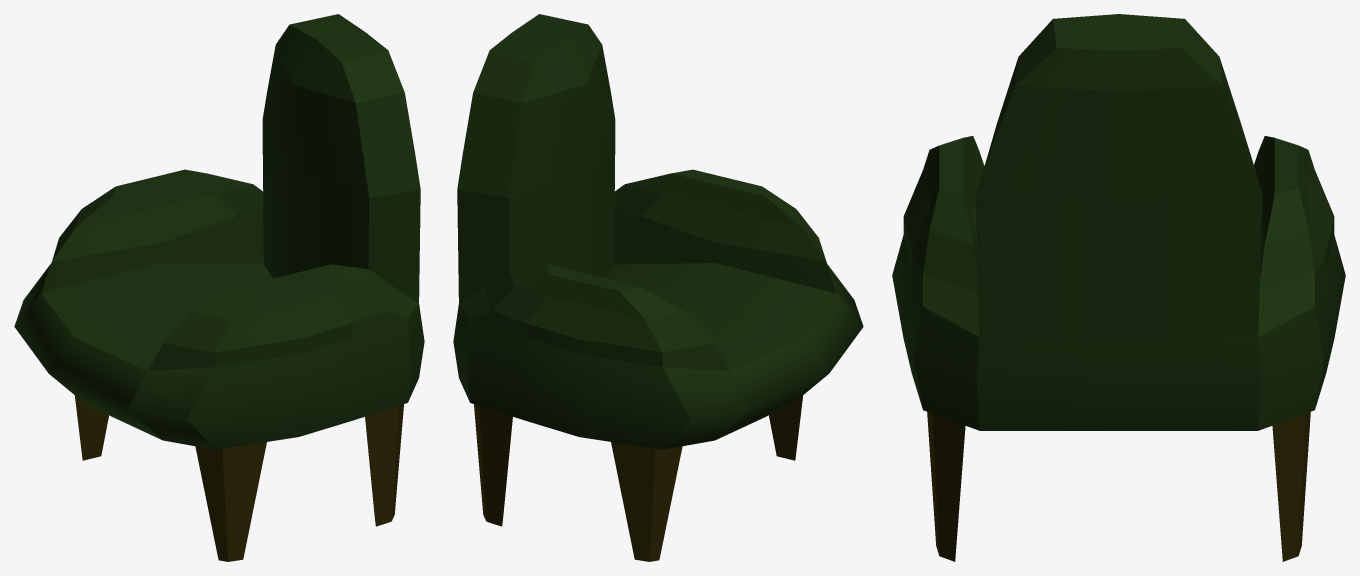
Rendered from Fotölj.fbx.
3 views of the same model, side by side, from view 1: azimuth 30°, elevation 25°; view 2: azimuth 150°, elevation 25°; view 3: azimuth 270°, elevation 25° (orthographic). The views are drawn at different scales.
Visible parts, largest first — view 1: pCube1; view 2: pCube1; view 3: pCube1.
Boxes of the visible parts, box(x1,y1,x2,y2) form: pCube1: box(14, 14, 424, 561); pCube1: box(453, 14, 863, 561); pCube1: box(892, 14, 1345, 561).
Bounding box in the file's own units: 10.52 × 13.3 × 10.13.
